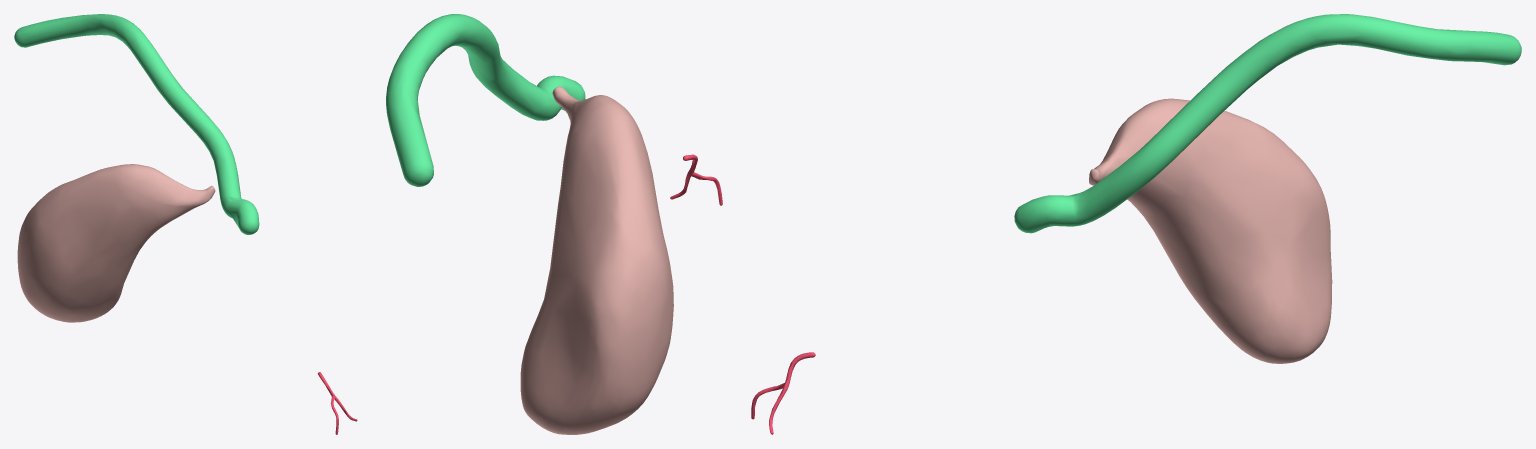
Rendered from organ-gallbladder.glb.
3 renders of one model, left to right at view 1: azimuth 30°, elevation 25°; view 2: azimuth 150°, elevation 25°; view 3: azimuth 270°, elevation 25°, orthographic. The views are drawn at different scales.
Visible parts, largest first — view 1: Gallbladder_Sack, Extrahepatic_Bile_Ducts, Cystic_Artery; view 2: Gallbladder_Sack, Extrahepatic_Bile_Ducts, Cystic_Artery; view 3: Gallbladder_Sack, Extrahepatic_Bile_Ducts, Cystic_Artery.
Part boxes in pixels (bbox=[...]): Gallbladder_Sack: bbox=[17, 164, 215, 322]; Extrahepatic_Bile_Ducts: bbox=[14, 14, 259, 234]; Cystic_Artery: bbox=[317, 372, 357, 434]; Gallbladder_Sack: bbox=[520, 86, 673, 434]; Extrahepatic_Bile_Ducts: bbox=[386, 14, 585, 186]; Cystic_Artery: bbox=[670, 154, 722, 205]; Gallbladder_Sack: bbox=[1089, 98, 1332, 363]; Extrahepatic_Bile_Ducts: bbox=[1014, 14, 1521, 233]; Cystic_Artery: bbox=[751, 352, 815, 434].
Size of the model in its own units: 0.1781 by 0.2837 by 0.5.
